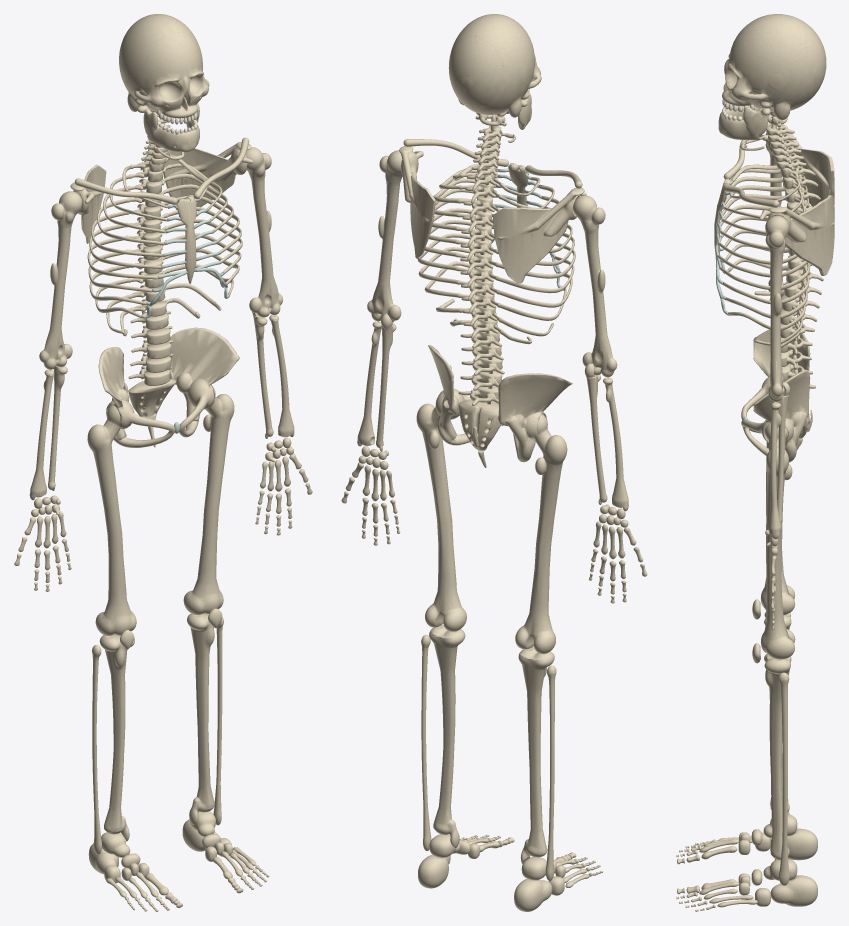
The model's file is full-adult-skeleton-standing.glb.
The picture shows the model from 3 angles, left to right: view 1: azimuth 30°, elevation 25°; view 2: azimuth 150°, elevation 25°; view 3: azimuth 270°, elevation 25°; orthographic projection. The views are drawn at different scales.
Parts seen in each view (by area): view 1: Hollow neurocranium and facial bones, Left femur with shaped head neck and condyles, Right femur with shaped head neck and condyles, Right os coxae with iliac wing and acetabulum, Right tibia with triangular shaft plateau and malleolus, Left tibia with triangular shaft plateau and malleolus, Left humerus with head tubercles and distal fossae, Right humerus with head tubercles and distal fossae, Left os coxae with iliac wing and acetabulum, Right scapula with blade spine acromion and glenoid, Mandible with paired rami and condyles, Left scapula with blade spine acromion and glenoid (+9 smaller); view 2: Hollow neurocranium and facial bones, Left femur with shaped head neck and condyles, Right femur with shaped head neck and condyles, Left scapula with blade spine acromion and glenoid, Left os coxae with iliac wing and acetabulum, Right tibia with triangular shaft plateau and malleolus, Left tibia with triangular shaft plateau and malleolus, Left humerus with head tubercles and distal fossae, Right humerus with head tubercles and distal fossae, Right scapula with blade spine acromion and glenoid, Right os coxae with iliac wing and acetabulum, Sacrum with paired foramina (+8 smaller); view 3: Hollow neurocranium and facial bones, Right femur with shaped head neck and condyles, Right scapula with blade spine acromion and glenoid, Right tibia with triangular shaft plateau and malleolus, Right humerus with head tubercles and distal fossae, Right os coxae with iliac wing and acetabulum, Left scapula with blade spine acromion and glenoid, Right fibula with expanded head and lateral malleolus, Mandible with paired rami and condyles, Left os coxae with iliac wing and acetabulum, Right radius with bowed shaft and flared wrist, Right calcaneus (+12 smaller).
Boxes of the visible parts, left/top/right/bottom form: Hollow neurocranium and facial bones: left=119, top=14, right=209, bottom=118; Left femur with shaped head neck and condyles: left=87, top=405, right=136, bottom=635; Right femur with shaped head neck and condyles: left=183, top=386, right=234, bottom=614; Right os coxae with iliac wing and acetabulum: left=169, top=327, right=239, bottom=437; Right tibia with triangular shaft plateau and malleolus: left=187, top=613, right=222, bottom=824; Left tibia with triangular shaft plateau and malleolus: left=99, top=634, right=134, bottom=841; Left humerus with head tubercles and distal fossae: left=39, top=191, right=82, bottom=369; Right humerus with head tubercles and distal fossae: left=246, top=147, right=282, bottom=317; Left os coxae with iliac wing and acetabulum: left=98, top=347, right=175, bottom=447; Right scapula with blade spine acromion and glenoid: left=163, top=142, right=253, bottom=209; Mandible with paired rami and condyles: left=137, top=103, right=199, bottom=151; Left scapula with blade spine acromion and glenoid: left=70, top=164, right=106, bottom=243; Hollow neurocranium and facial bones: left=448, top=14, right=541, bottom=117; Left femur with shaped head neck and condyles: left=515, top=414, right=567, bottom=653; Right femur with shaped head neck and condyles: left=416, top=403, right=466, bottom=631; Left scapula with blade spine acromion and glenoid: left=492, top=187, right=586, bottom=283; Left os coxae with iliac wing and acetabulum: left=498, top=373, right=572, bottom=462; Right tibia with triangular shaft plateau and malleolus: left=429, top=625, right=465, bottom=847; Left tibia with triangular shaft plateau and malleolus: left=518, top=647, right=554, bottom=863; Left humerus with head tubercles and distal fossae: left=573, top=195, right=617, bottom=377; Right humerus with head tubercles and distal fossae: left=367, top=150, right=402, bottom=322; Right scapula with blade spine acromion and glenoid: left=399, top=146, right=435, bottom=258; Right os coxae with iliac wing and acetabulum: left=428, top=345, right=498, bottom=445; Sacrum with paired foramina: left=458, top=399, right=500, bottom=450; Hollow neurocranium and facial bones: left=722, top=14, right=826, bottom=120; Right femur with shaped head neck and condyles: left=760, top=424, right=795, bottom=659; Right scapula with blade spine acromion and glenoid: left=759, top=195, right=834, bottom=275; Right tibia with triangular shaft plateau and malleolus: left=764, top=653, right=791, bottom=860; Right humerus with head tubercles and distal fossae: left=765, top=215, right=789, bottom=401; Right os coxae with iliac wing and acetabulum: left=741, top=369, right=810, bottom=462; Left scapula with blade spine acromion and glenoid: left=760, top=124, right=834, bottom=206; Right fibula with expanded head and lateral malleolus: left=778, top=672, right=789, bottom=885; Mandible with paired rami and condyles: left=718, top=105, right=770, bottom=140; Left os coxae with iliac wing and acetabulum: left=741, top=327, right=810, bottom=433; Right radius with bowed shaft and flared wrist: left=768, top=402, right=781, bottom=539; Right calcaneus: left=770, top=875, right=817, bottom=906.
Bounding box in the file's own units: 0.6422 × 1.75 × 0.2906.
Materials: 4 (4 with a texture image).
